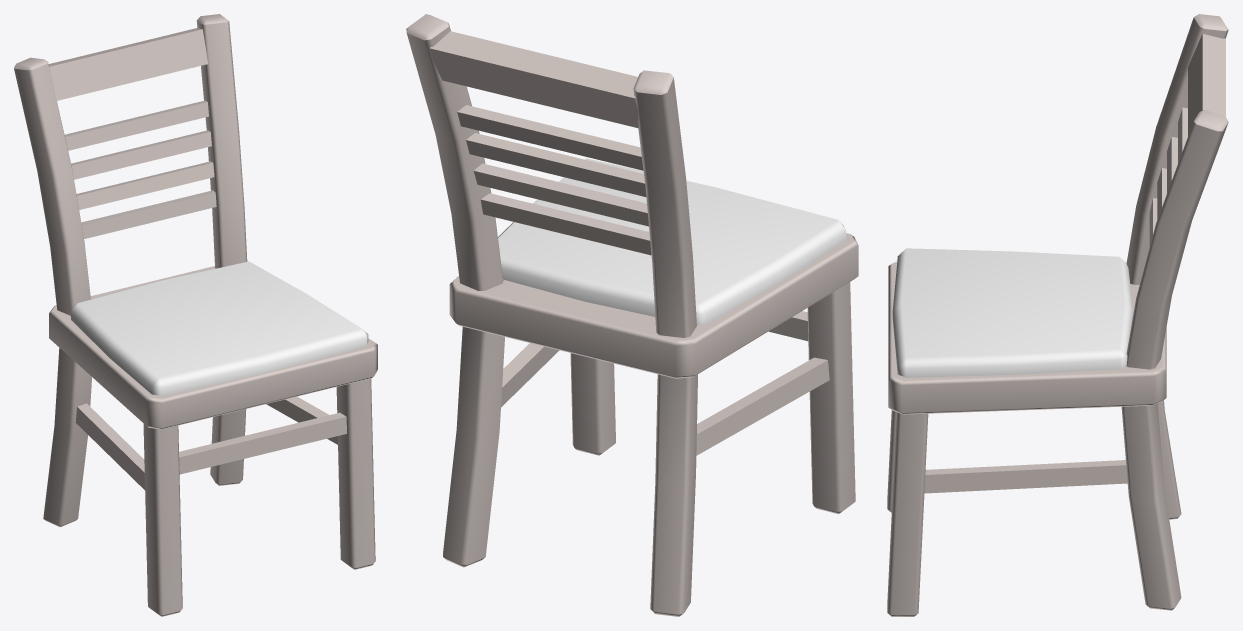
File: chair_026.fbx
3 renders of one model, left to right at view 1: azimuth 30°, elevation 25°; view 2: azimuth 150°, elevation 25°; view 3: azimuth 270°, elevation 25°, orthographic. The views are drawn at different scales.
Parts seen in each view (by area): view 1: chair_026; view 2: chair_026; view 3: chair_026.
Boxes of the visible parts, x1,y1,x2,y2 form: chair_026: [14, 14, 377, 616]; chair_026: [406, 14, 858, 616]; chair_026: [887, 14, 1228, 616].
Bounding box in the file's own units: 65 × 75.24 × 120.
